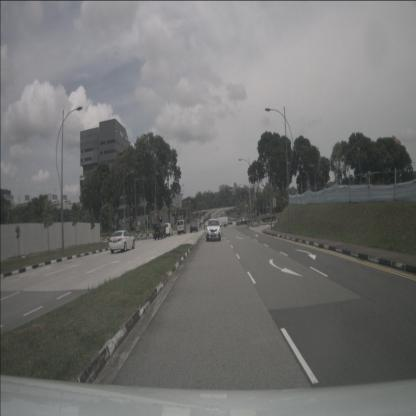vehicle-car: (108, 229, 135, 253), (205, 219, 221, 242), (153, 223, 166, 240), (177, 219, 187, 235), (216, 216, 228, 228), (164, 222, 173, 238), (236, 216, 250, 226), (262, 214, 276, 223), (189, 223, 198, 234)
